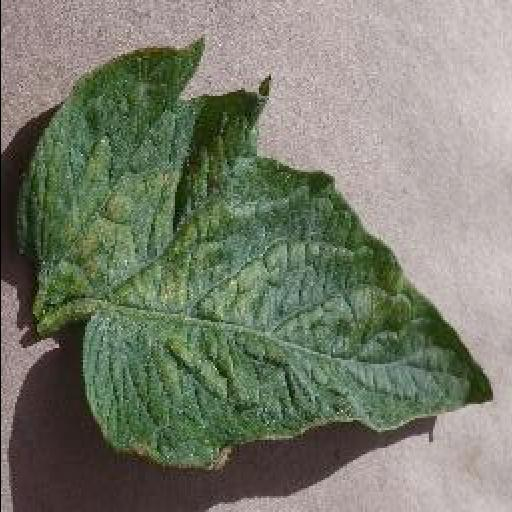disease_tomato: (12, 36, 494, 470)
